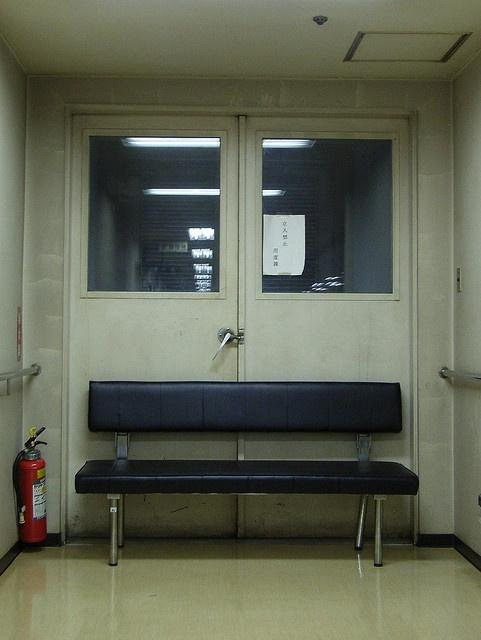APAR: (14, 425, 47, 553)
